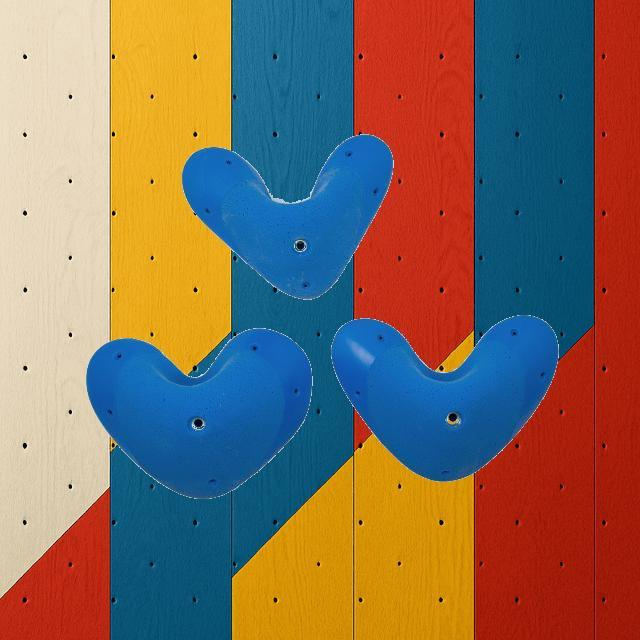Jug: (85, 328, 312, 498), (330, 315, 560, 481), (180, 134, 394, 298)
